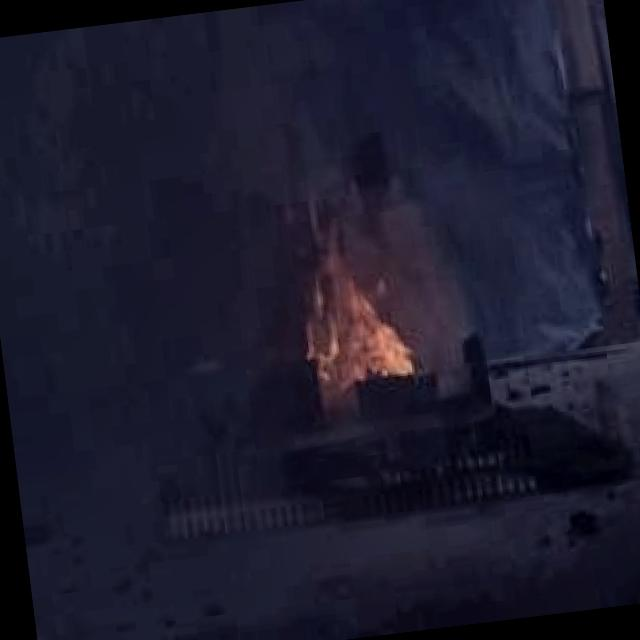fire: (287, 243, 422, 424)
